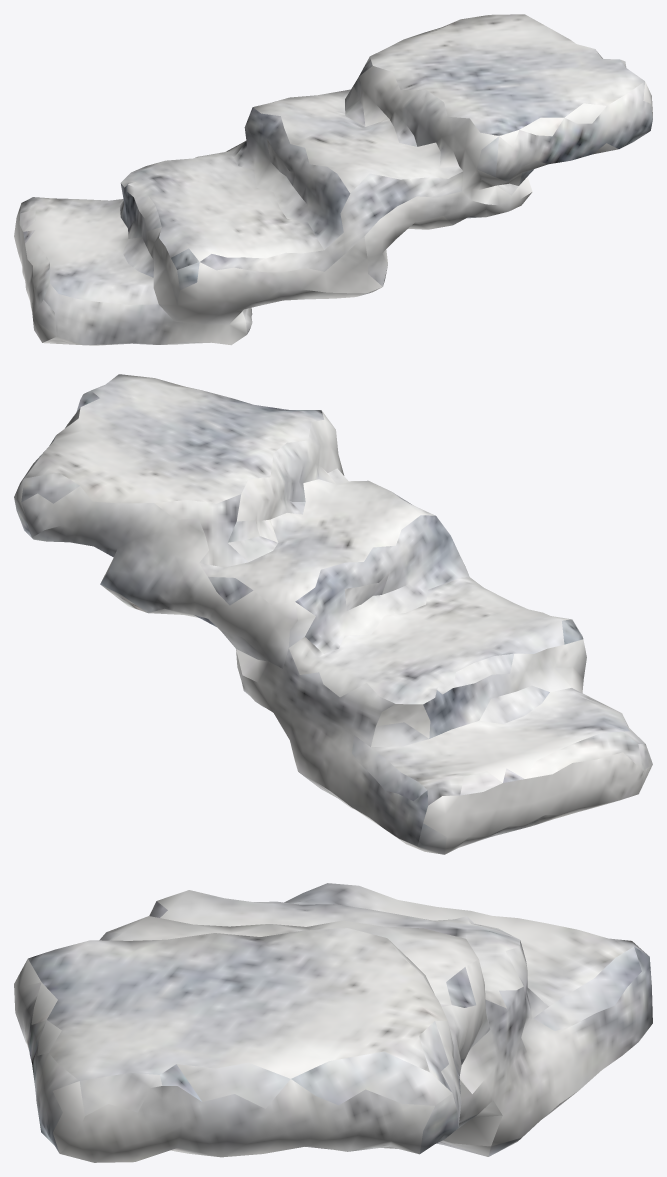
Rendered from plataforma_4.obj.
3 views of the same model, one above another, from view 1: azimuth 30°, elevation 25°; view 2: azimuth 150°, elevation 25°; view 3: azimuth 270°, elevation 25° (orthographic). The views are drawn at different scales.
Parts seen in each view (by area): view 1: plataforma_4_Stone_B; view 2: plataforma_4_Stone_B; view 3: plataforma_4_Stone_B.
Boxes of the visible parts, x1,y1,x2,y2 form: plataforma_4_Stone_B: (14,14,652,345); plataforma_4_Stone_B: (14,374,652,854); plataforma_4_Stone_B: (14,883,652,1162).
Bounding box in the file's own units: 3.99 × 1.39 × 2.5.
